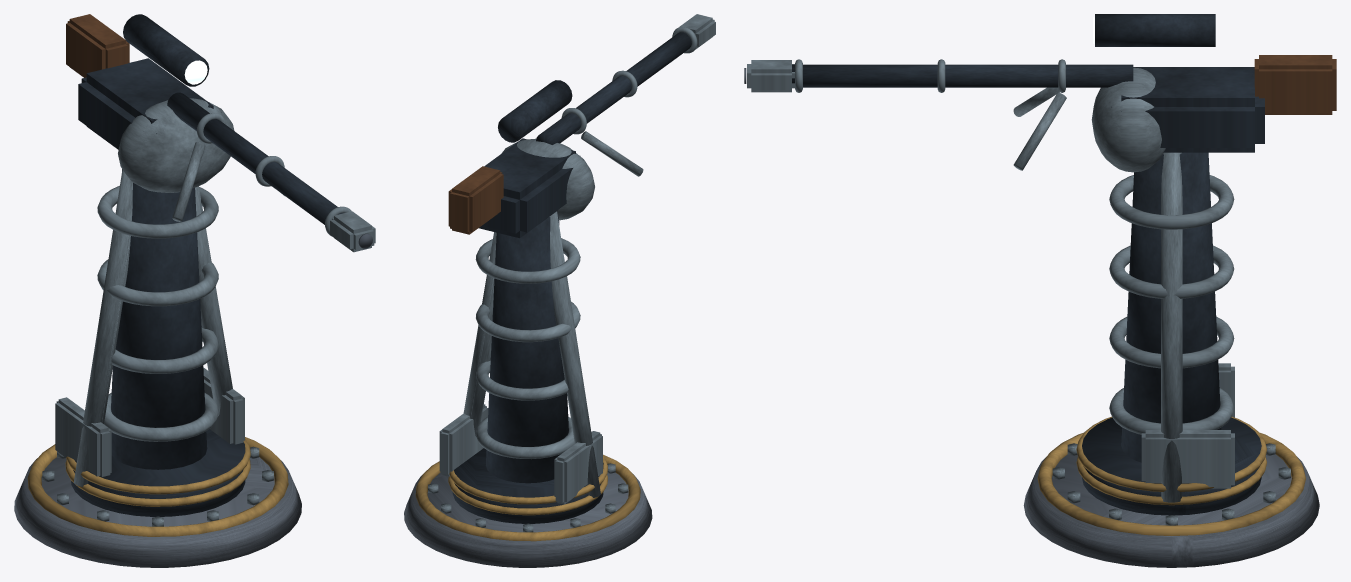
The model's file is tower_sniper_2.glb.
3 renders of one model, left to right at view 1: azimuth 30°, elevation 25°; view 2: azimuth 150°, elevation 25°; view 3: azimuth 270°, elevation 25°, orthographic. The views are drawn at different scales.
Visible parts, largest first — view 1: Forged_black_iron, Weathered_blue_steel, Weathered_granite, Forged_black_iron.001, Weathered_blue_steel.001, Antique_brass, Old_oak; view 2: Forged_black_iron, Weathered_blue_steel, Forged_black_iron.001, Weathered_granite, Antique_brass, Weathered_blue_steel.001, Old_oak; view 3: Weathered_blue_steel, Forged_black_iron.001, Forged_black_iron, Weathered_granite, Weathered_blue_steel.001, Antique_brass, Old_oak.
Boxes of the visible parts, left/top/right/bottom form: Forged_black_iron: left=71, top=169, right=245, bottom=516; Weathered_blue_steel: left=42, top=169, right=273, bottom=526; Weathered_granite: left=14, top=457, right=301, bottom=567; Forged_black_iron.001: left=78, top=14, right=343, bottom=224; Weathered_blue_steel.001: left=118, top=98, right=375, bottom=252; Antique_brass: left=27, top=437, right=288, bottom=536; Old_oak: left=66, top=14, right=129, bottom=77; Forged_black_iron: left=452, top=211, right=603, bottom=523; Weathered_blue_steel: left=428, top=211, right=628, bottom=532; Forged_black_iron.001: left=479, top=32, right=691, bottom=238; Weathered_granite: left=404, top=472, right=652, bottom=567; Antique_brass: left=415, top=454, right=640, bottom=541; Weathered_blue_steel.001: left=502, top=14, right=715, bottom=220; Old_oak: left=448, top=166, right=503, bottom=234; Weathered_blue_steel: left=1052, top=152, right=1290, bottom=525; Forged_black_iron.001: left=792, top=14, right=1264, bottom=152; Forged_black_iron: left=1082, top=152, right=1261, bottom=515; Weathered_granite: left=1023, top=454, right=1319, bottom=567; Weathered_blue_steel.001: left=747, top=59, right=1165, bottom=172; Antique_brass: left=1037, top=416, right=1305, bottom=535; Old_oak: left=1254, top=55, right=1336, bottom=114.
Bounding box in the file's own units: 2.7 × 4.93 × 5.41.
7 materials, 5 textured.
